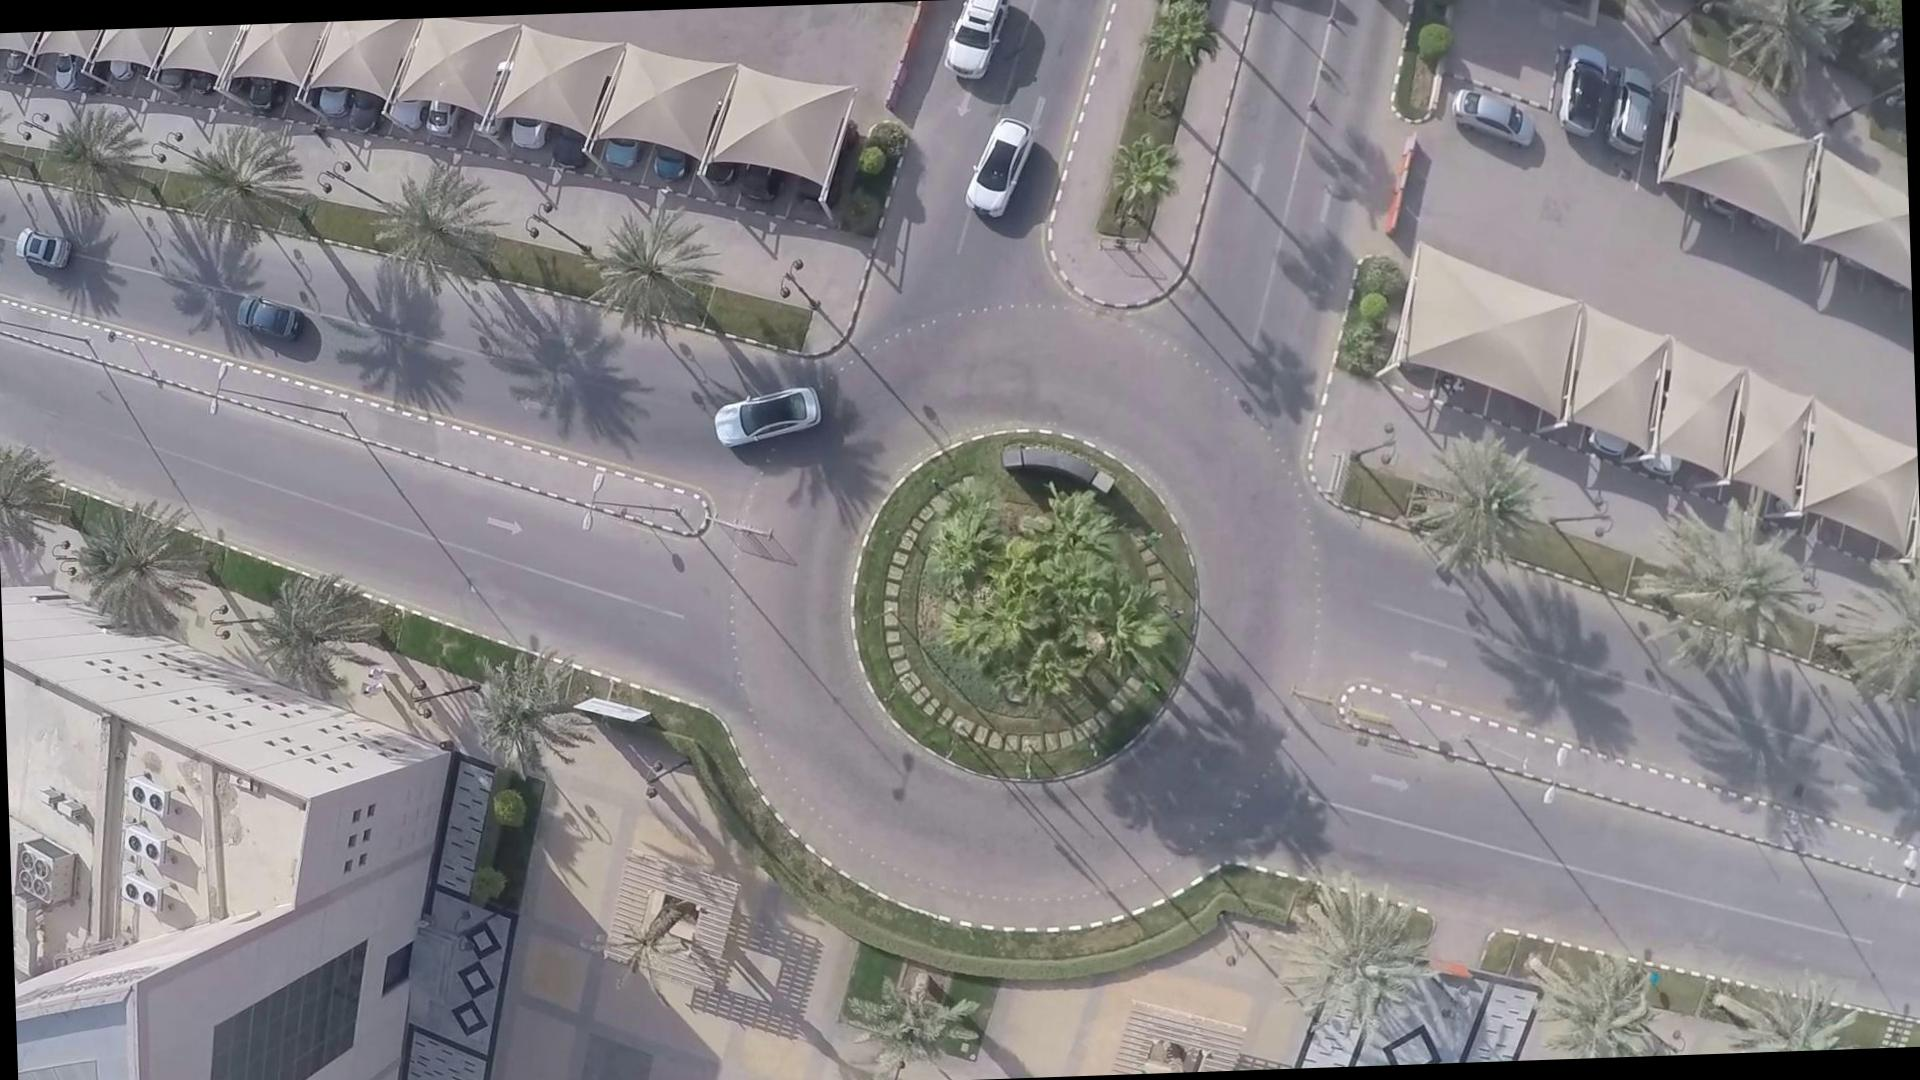vehicle: (698, 382, 830, 447), (1442, 79, 1534, 155), (961, 118, 1028, 210), (226, 288, 321, 346), (14, 226, 79, 272)
